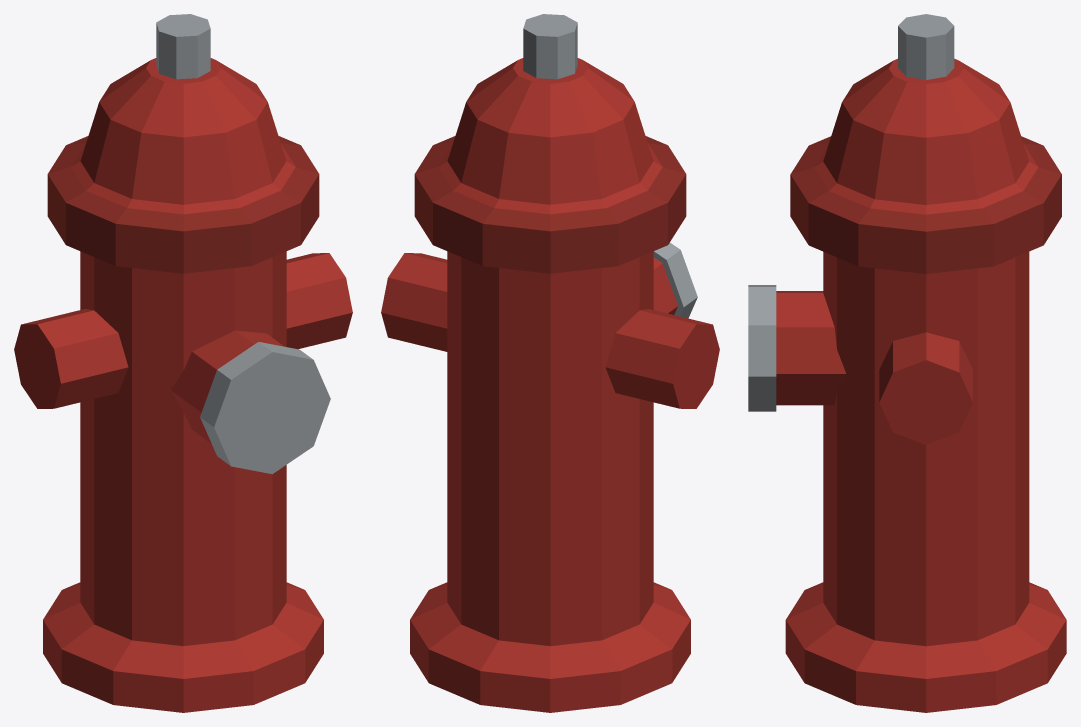
Rendered from borne_incendie.glb.
The picture shows the model from 3 angles, left to right: view 1: azimuth 30°, elevation 25°; view 2: azimuth 150°, elevation 25°; view 3: azimuth 270°, elevation 25°; orthographic projection.
Visible parts, largest first — view 1: body, band, side, front_cap, front, nut; view 2: body, band, side, nut, front_cap, front; view 3: body, band, side, front, front_cap, nut.
Part boxes in pixels (<box>): body: <box>43,58,323,712</box>; band: <box>47,136,319,273</box>; side: <box>14,253,352,408</box>; front_cap: <box>200,342,330,474</box>; front: <box>171,330,283,443</box>; nut: <box>156,14,210,79</box>; body: <box>410,58,690,712</box>; band: <box>414,136,686,273</box>; side: <box>381,253,719,408</box>; nut: <box>523,14,577,79</box>; front_cap: <box>653,242,697,318</box>; front: <box>653,257,677,314</box>; body: <box>785,58,1066,712</box>; band: <box>790,136,1061,273</box>; side: <box>879,332,972,444</box>; front: <box>776,291,846,405</box>; front_cap: <box>748,285,776,411</box>; nut: <box>898,14,954,79</box>.
Size of the model in its own units: 0.36 by 0.74 by 0.34.
3 materials, 3 textured.
